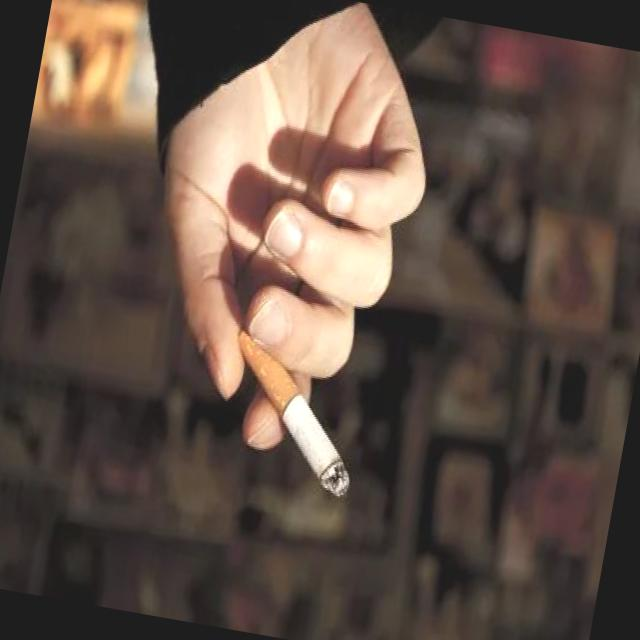cigarette: (210, 318, 378, 504)
